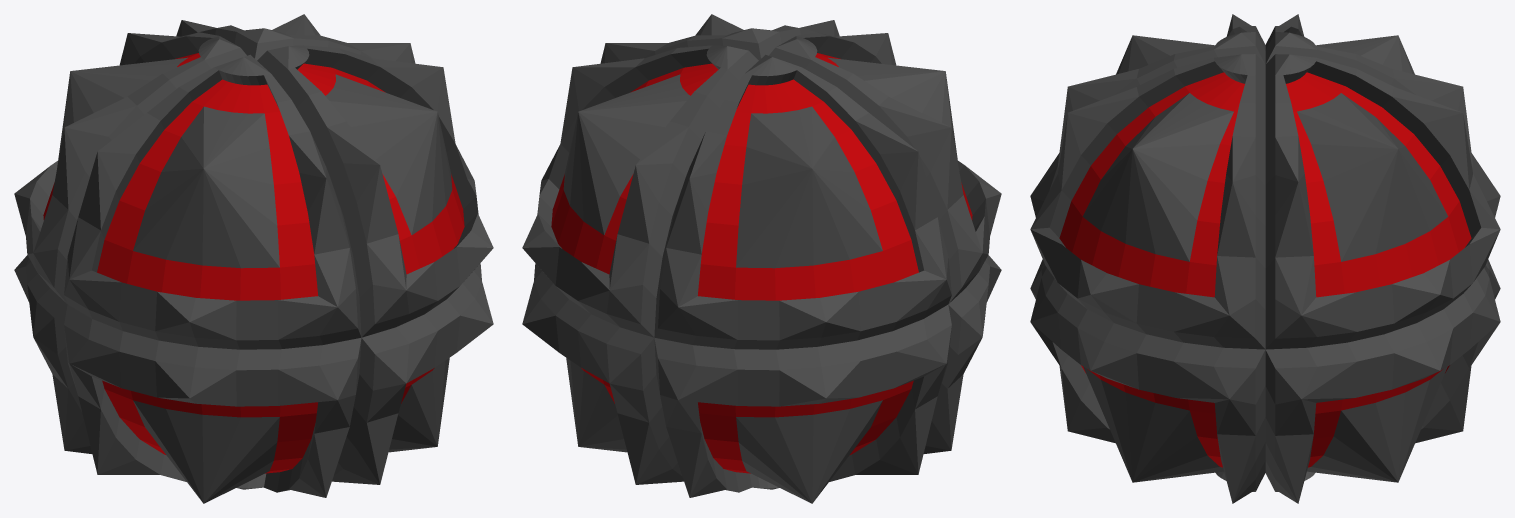
Rendered from SpikeSphere.fbx.
3 renders of one model, left to right at view 1: azimuth 30°, elevation 25°; view 2: azimuth 150°, elevation 25°; view 3: azimuth 270°, elevation 25°, orthographic.
Parts seen in each view (by area): view 1: Sphere; view 2: Sphere; view 3: Sphere.
Part boxes in pixels (x1,y1,x2,y2): Sphere: (14,14,493,503); Sphere: (522,14,1001,503); Sphere: (1030,14,1500,503).
Size of the model in its own units: 218 by 220 by 222.
